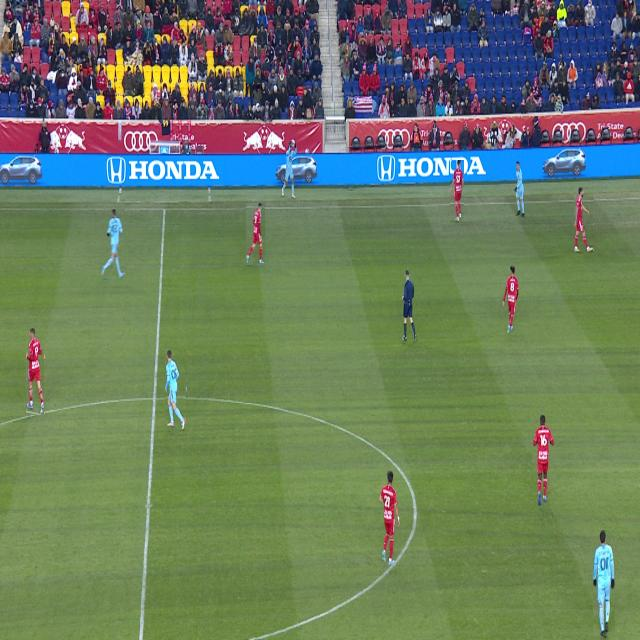player: (593, 531, 615, 636), (379, 471, 400, 565), (533, 415, 554, 506), (166, 349, 186, 431), (102, 210, 125, 278), (27, 329, 44, 415), (575, 187, 593, 252), (246, 203, 265, 264), (502, 266, 519, 334), (450, 160, 464, 222), (514, 162, 525, 217)
referee: (402, 270, 417, 343)
